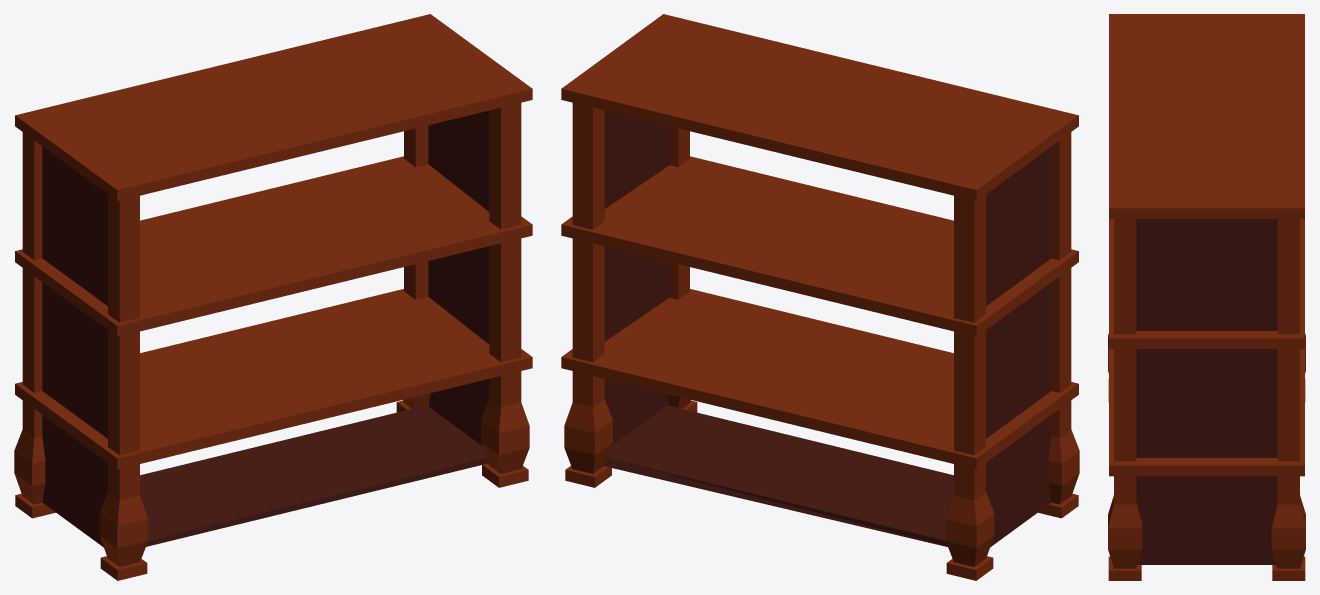
The model's file is Rack_1.fbx.
3 views of the same model, side by side, from view 1: azimuth 30°, elevation 25°; view 2: azimuth 150°, elevation 25°; view 3: azimuth 270°, elevation 25° (orthographic). The views are drawn at different scales.
Parts seen in each view (by area): view 1: Rack_1; view 2: Rack_1; view 3: Rack_1.
Part boxes in pixels (bbox=[...]): Rack_1: bbox=[14, 14, 532, 580]; Rack_1: bbox=[561, 14, 1079, 580]; Rack_1: bbox=[1108, 14, 1305, 580].
Size of the model in its own units: 196 by 176 by 84.4.
